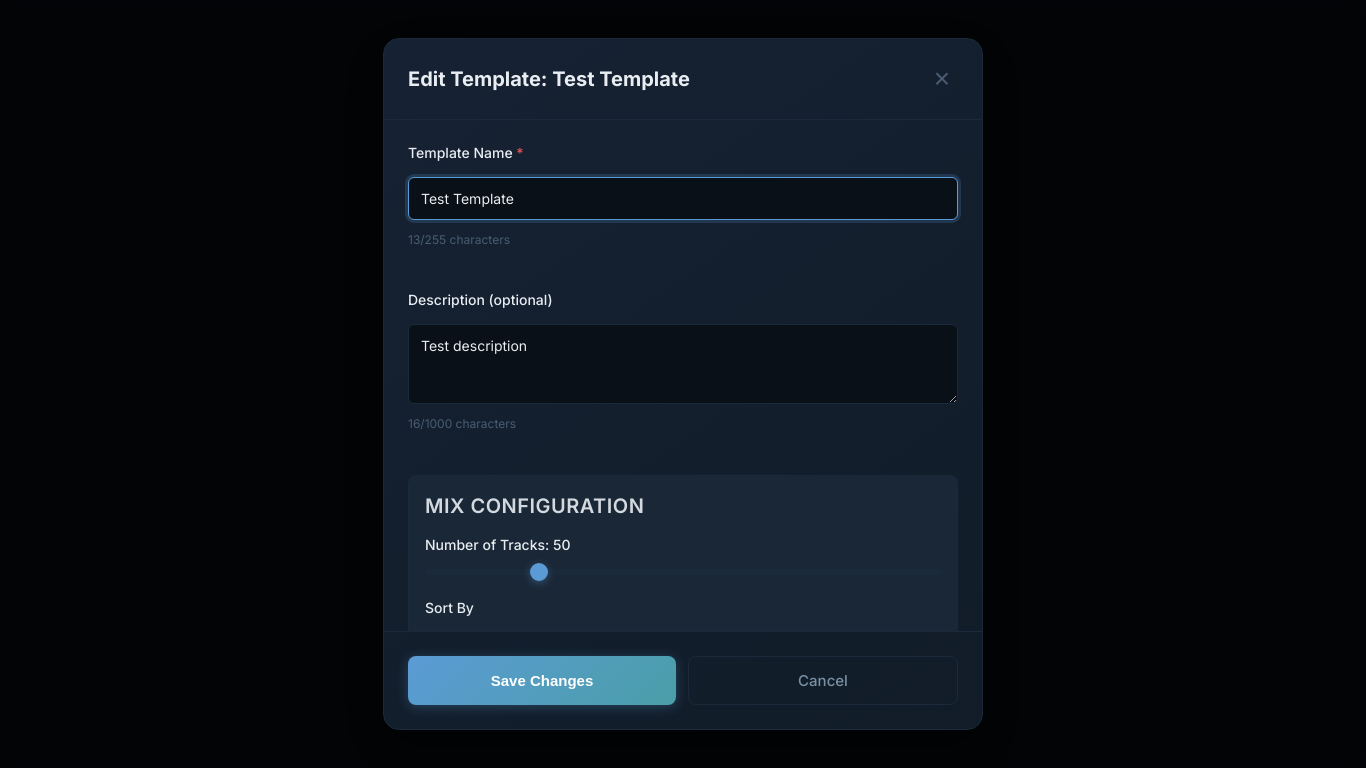
Test case: EditTemplateModal - Success/Error Messages › Error Messages › displays generic error message when save fails without Error object
Click the button "Save Changes". click: (542, 680)
box: [408,656,676,705]
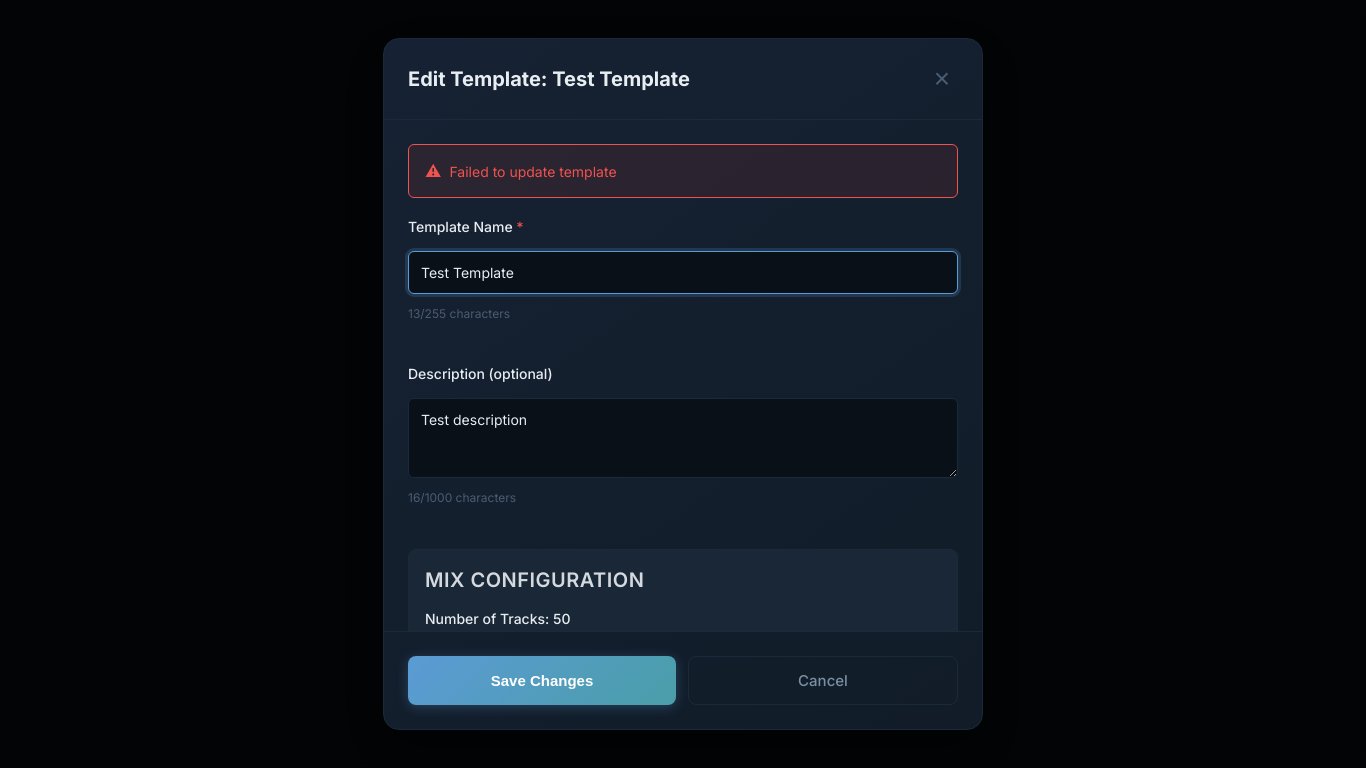
Now the text "Failed to update template" is shown, box [408,144,958,198]
